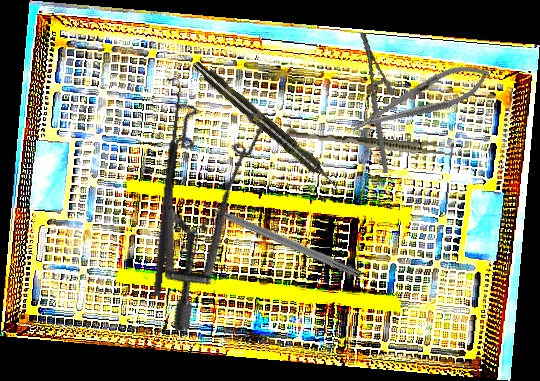Handpiece: (190, 57, 344, 195)
Hook Surgical: (189, 194, 363, 279), (142, 77, 185, 297)
Needle Holder: (344, 54, 496, 145), (335, 32, 413, 174)
Speculum: (109, 77, 321, 336)
Tissue Forceps: (284, 127, 457, 158)
